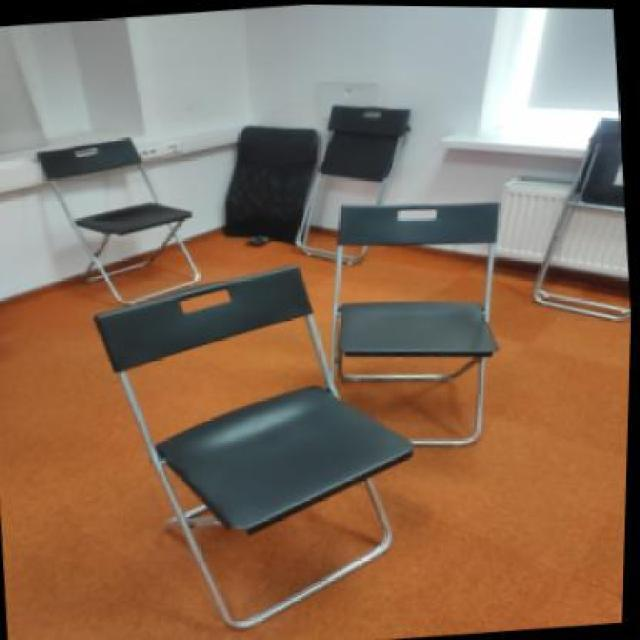chair: (92, 264, 414, 629), (330, 200, 500, 446), (36, 136, 201, 305), (531, 116, 630, 322), (295, 104, 411, 266), (221, 124, 319, 245)
